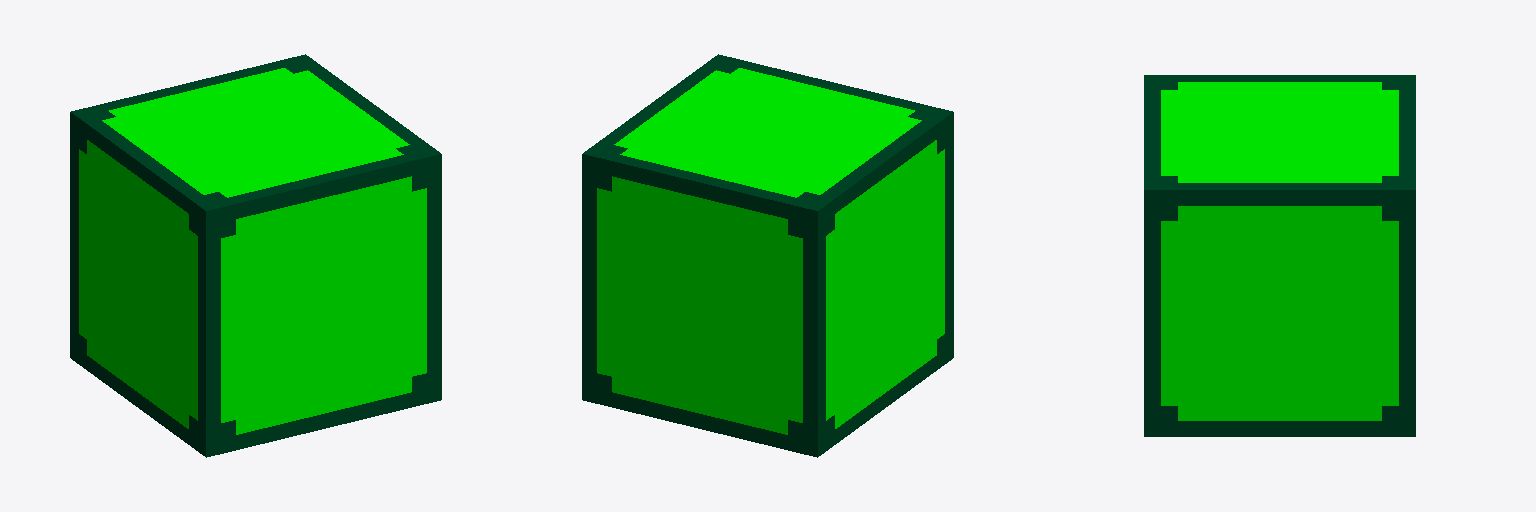
3 renders of one model, left to right at view 1: azimuth 30°, elevation 25°; view 2: azimuth 150°, elevation 25°; view 3: azimuth 270°, elevation 25°, orthographic.
Parts seen in each view (by area): view 1: 0_green; view 2: 0_green; view 3: 0_green.
Boxes of the visible parts, <box> form: 0_green: <box>70,54,441,457</box>; 0_green: <box>582,54,953,457</box>; 0_green: <box>1144,75,1415,436</box>.
Size of the model in its own units: 1 by 1 by 1.
1 materials, 1 textured.